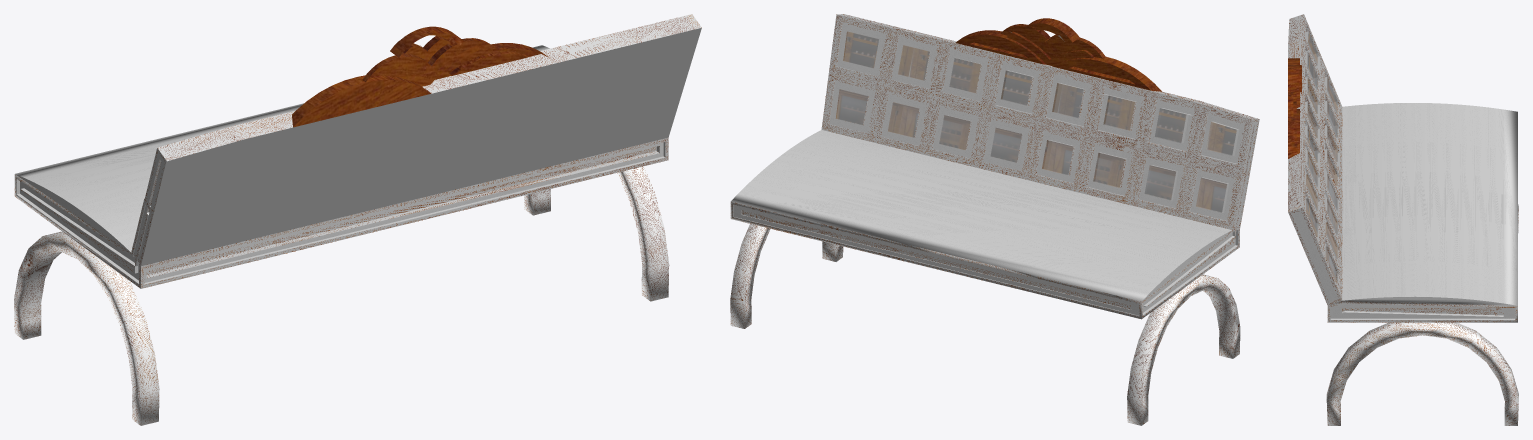
3 renders of one model, left to right at view 1: azimuth 30°, elevation 25°; view 2: azimuth 150°, elevation 25°; view 3: azimuth 270°, elevation 25°, orthographic. The views are drawn at different scales.
Parts seen in each view (by area): view 1: mesh1_mesh1-geometry, mesh2_mesh2-geometry, mesh3_mesh3-geometry; view 2: mesh1_mesh1-geometry, mesh2_mesh2-geometry, mesh3_mesh3-geometry; view 3: mesh1_mesh1-geometry, mesh3_mesh3-geometry.
Part boxes in pixels (x1,y1,x2,y2): mesh1_mesh1-geometry: (14, 14, 701, 288); mesh2_mesh2-geometry: (14, 231, 159, 425); mesh3_mesh3-geometry: (524, 166, 669, 301); mesh1_mesh1-geometry: (730, 14, 1259, 319); mesh2_mesh2-geometry: (1127, 274, 1240, 425); mesh3_mesh3-geometry: (730, 224, 843, 328); mesh1_mesh1-geometry: (1288, 14, 1517, 322); mesh3_mesh3-geometry: (1326, 322, 1518, 425).
Bounding box in the file's own units: 0.7836 × 0.4847 × 0.3887.
